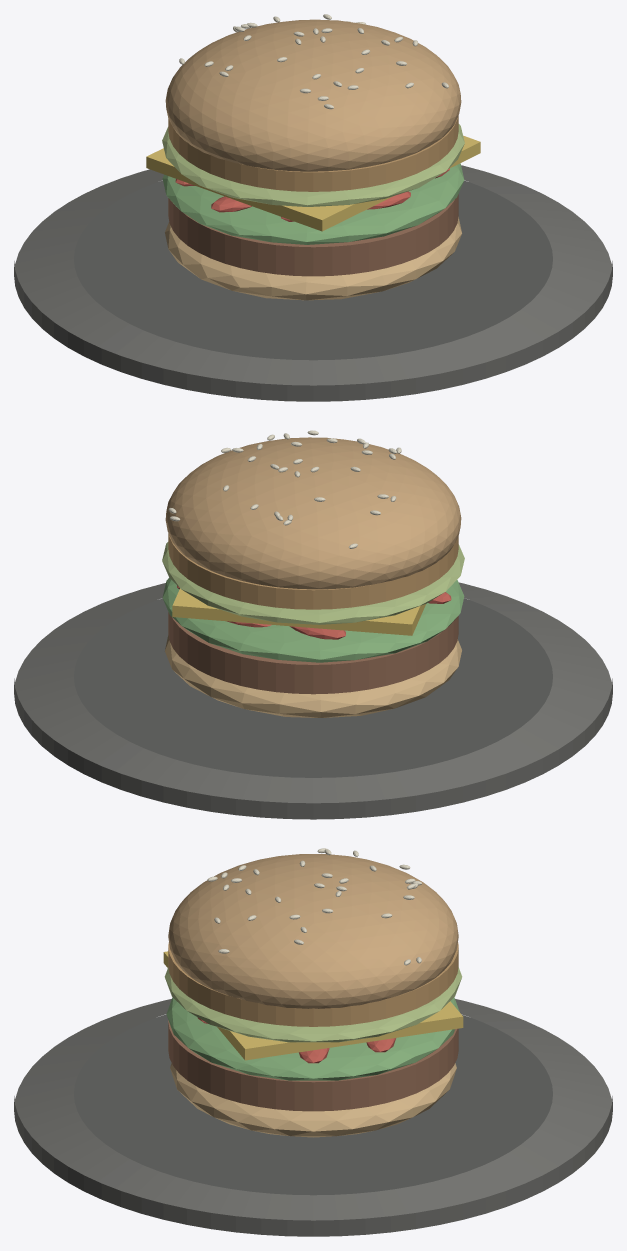
The model's file is burger.glb.
3 renders of one model, top to bottom at view 1: azimuth 30°, elevation 25°; view 2: azimuth 150°, elevation 25°; view 3: azimuth 270°, elevation 25°, orthographic.
Visible parts, largest first — view 1: world; view 2: world; view 3: world.
Part boxes in pixels (box(x1,y1,x2,y2)): world: box(14, 14, 612, 401); world: box(14, 430, 612, 819); world: box(14, 848, 612, 1236).
Bounding box in the file's own units: 0.334 × 0.1491 × 0.334.
